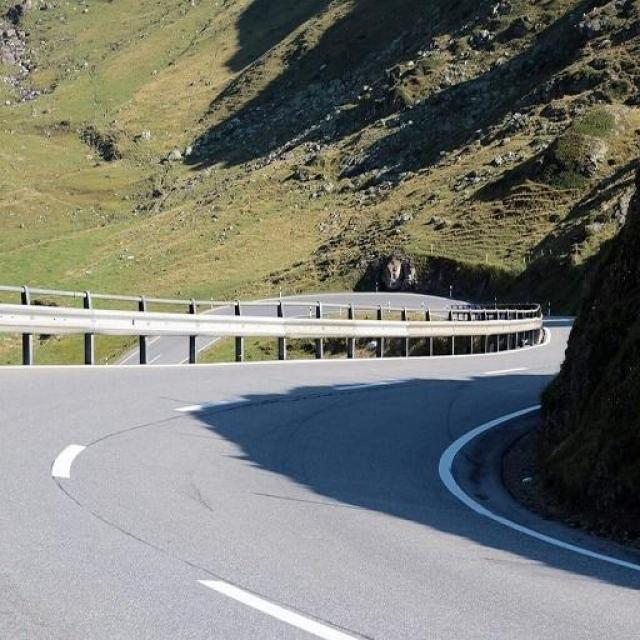Guard rail: (0, 282, 548, 365)
